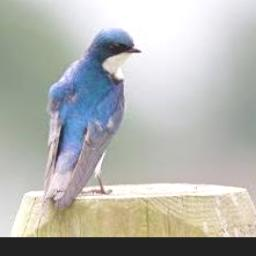Swallow: (44, 28, 140, 210)
